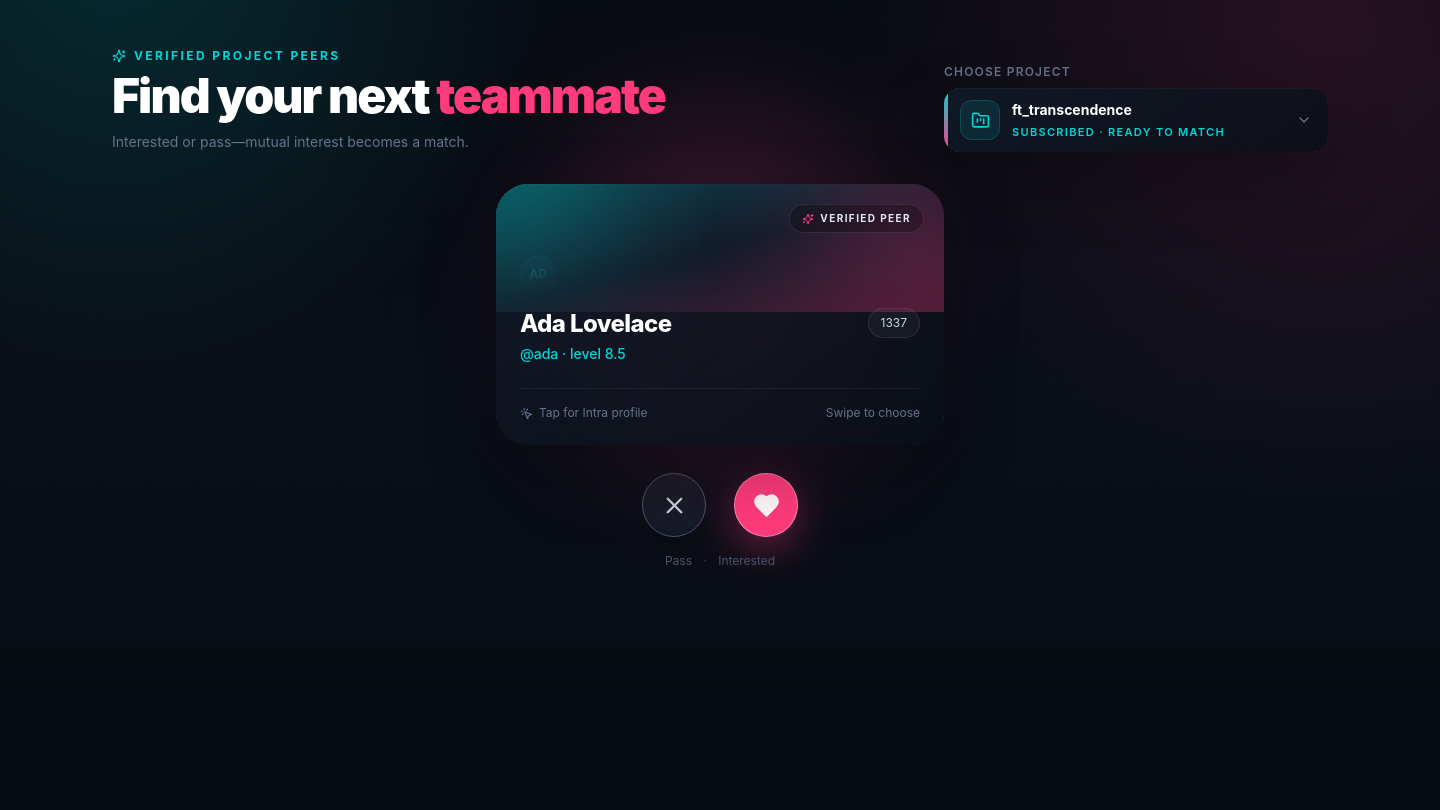
Scenario: Discover match celebration › celebrates when a right swipe is reciprocal
Step 1. Click the button named "Interested" → click(766, 505), box [734,473,798,537]
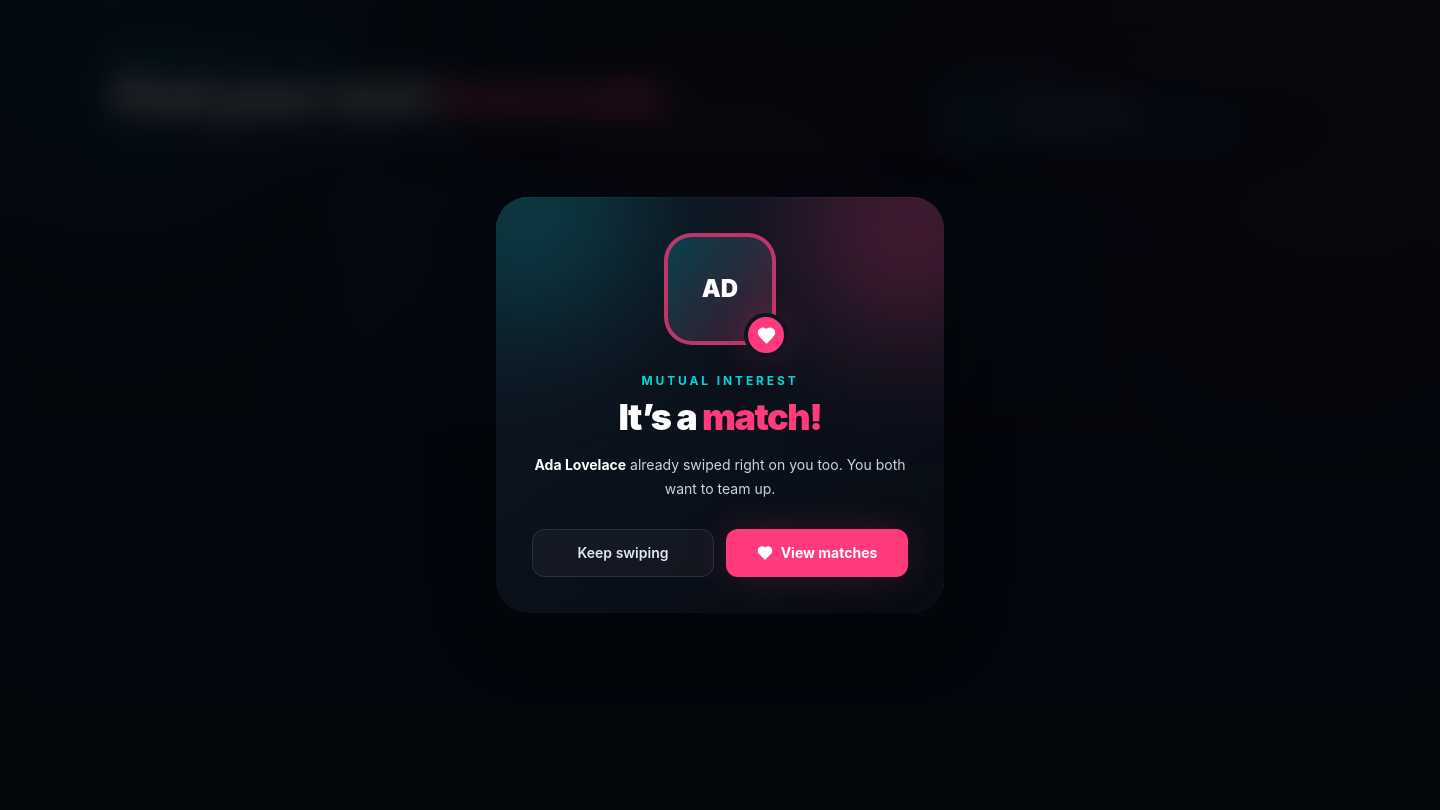
Expected: the text "Ada Lovelace" is shown, [534,456,626,473]
Now the heading "It’s a match!" is shown, box [618,395,822,439]
Now the text "already swiped right on you too" is shown, box [626,456,906,497]
